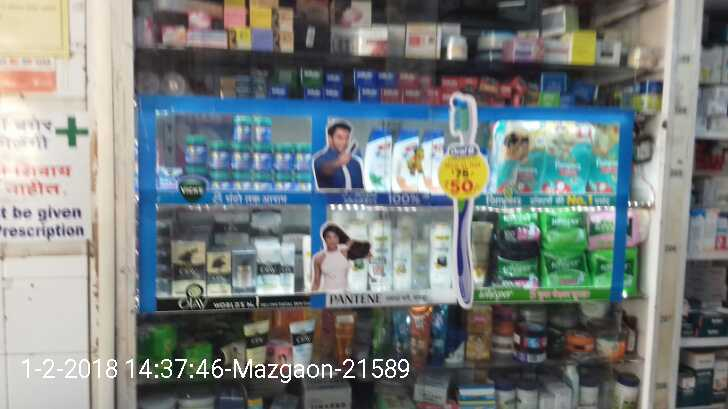beauty: (357, 130, 392, 192), (172, 236, 205, 300), (238, 317, 272, 376), (253, 238, 283, 298), (368, 217, 392, 292), (391, 131, 420, 193), (288, 318, 317, 379), (418, 131, 445, 195), (430, 219, 450, 297), (230, 248, 260, 289), (207, 250, 229, 293)
pharmacy: (483, 119, 541, 197), (539, 120, 592, 198), (491, 203, 542, 247), (542, 201, 583, 247), (590, 133, 618, 193), (542, 252, 590, 287), (492, 252, 534, 282), (250, 116, 278, 147), (183, 134, 207, 166), (246, 143, 270, 172), (207, 139, 228, 172), (269, 138, 290, 167), (229, 117, 249, 147), (290, 141, 311, 166), (227, 148, 249, 169)
